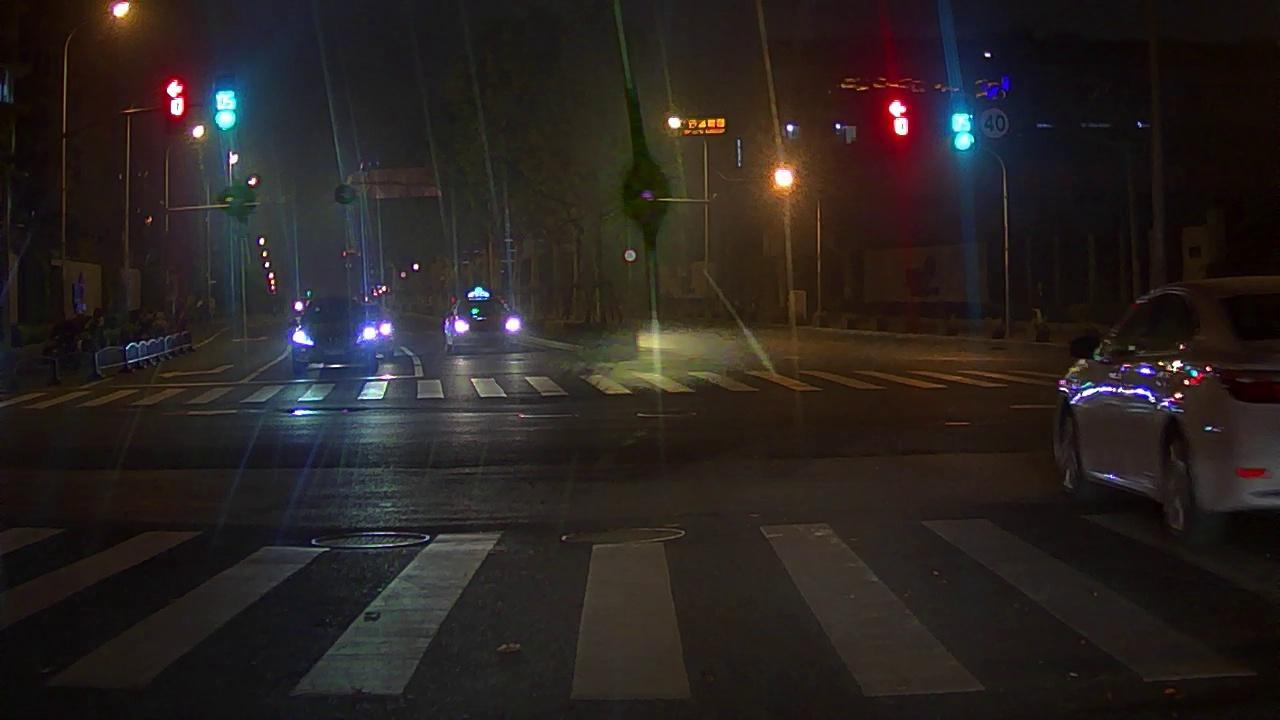traffic_light: (952, 96, 973, 153), (215, 93, 237, 129), (165, 78, 184, 117), (890, 102, 911, 135)
